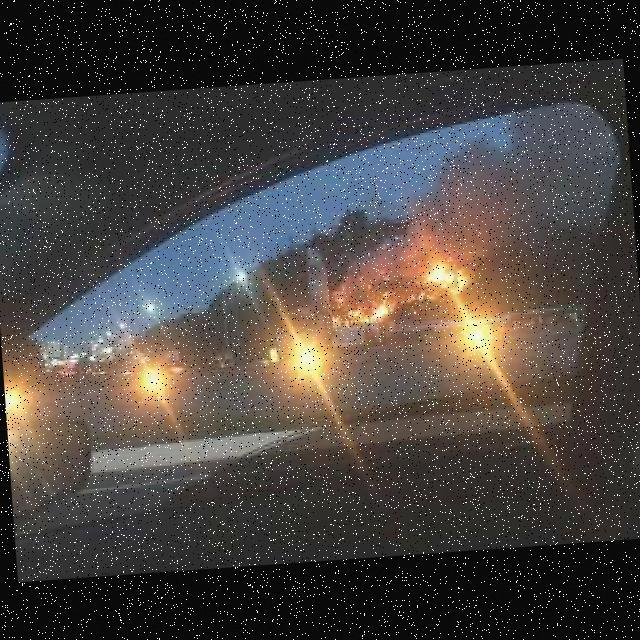Fire: (331, 291, 395, 329), (411, 264, 469, 300)
Smoke: (366, 114, 619, 276)
